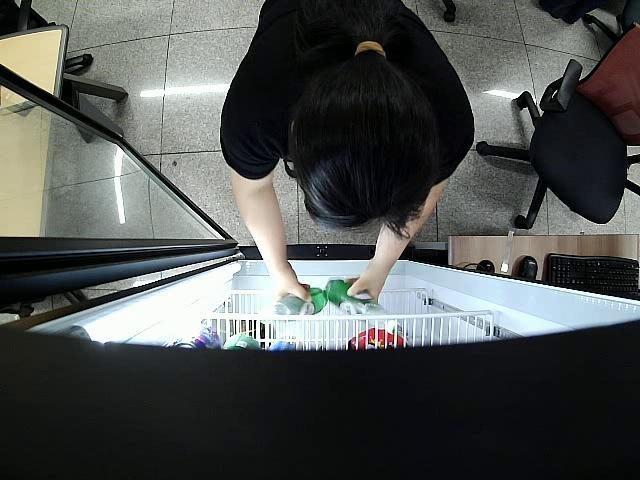18_trevi: (324, 280, 402, 337), (264, 288, 326, 318)
